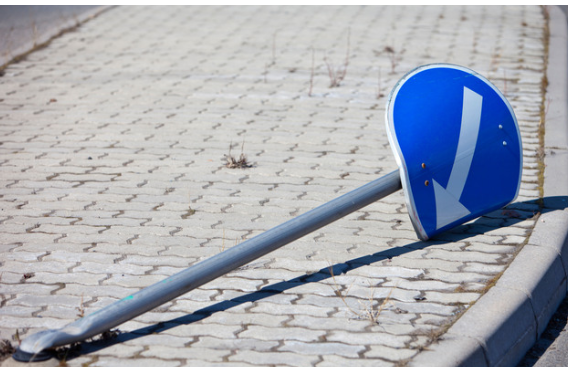Keep right: (379, 60, 527, 253)
